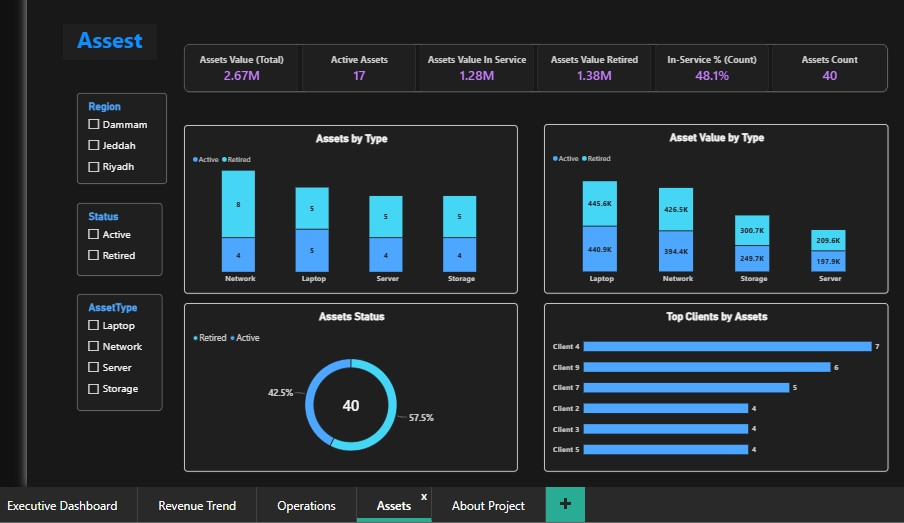

Layout of this report page (visuals, bound fields, positions):
{"tool":"powerbi","page":{"name":"Assets","canvas":[1920,1080],"ordinal":3},"visuals":[{"type":"cardVisual","fields":{"Data":["_Measures.Assets Value","_Measures.Active Assets","_Measures.Assets Value In Service","_Measures.Assets Value Retired","_Measures.In-Service % (Count)","_Measures.Assets Count"]},"box":[340,120,1526,104],"z":0},{"type":"columnChart","title":"Assets by Type","fields":{"Category":["FactAssets.AssetType"],"Series":["FactAssets.Status"],"Y":["_Measures.Assets Count"]},"box":[340.1,294,724.1,366.4],"z":1000},{"type":"columnChart","title":" Asset Value by Type","fields":{"Category":["FactAssets.AssetType"],"Series":["FactAssets.Status"],"Y":["_Measures.Assets Value (Total)"]},"box":[1120.9,293.4,746.5,367.8],"z":2000},{"type":"donutChart","title":"Assets Status","fields":{"Category":["FactAssets.Status"],"Y":["_Measures.Assets Count"]},"box":[340.1,680.2,724.1,366.4],"z":3000},{"type":"clusteredBarChart","title":"Top Clients by Assets","fields":{"Category":["DimClients.ClientName"],"Y":["_Measures.Assets Count"]},"box":[1120.9,680.9,746.5,365.6],"z":4000},{"type":"slicer","fields":{"Values":["DimClients.Region"]},"box":[107.5,225,195.2,197.3],"z":5000},{"type":"slicer","fields":{"Values":["FactAssets.Status"]},"box":[107.5,465,185,157.5],"z":6000},{"type":"textbox","box":[77.5,75,202.5,77.5],"z":6001},{"type":"slicer","fields":{"Values":["FactAssets.AssetType"]},"box":[107.5,662.5,185,252.5],"z":6002}]}

Visuals, with their boxes on the page's 1920x1080 design canvas (x1, y1, x2, y2). These are canvas units, not pixel positions in the 904x523 screenshot, which may show the page scaled, cropped or inside an application window:
cardVisual - _Measures.Assets Value x _Measures.Active Assets: (340, 120, 1866, 224)
"Assets by Type" columnChart: (340, 294, 1064, 660)
" Asset Value by Type" columnChart: (1121, 293, 1867, 661)
"Assets Status" donutChart: (340, 680, 1064, 1047)
"Top Clients by Assets" clusteredBarChart: (1121, 681, 1867, 1046)
slicer - DimClients.Region: (108, 225, 303, 422)
slicer - FactAssets.Status: (108, 465, 292, 622)
textbox: (78, 75, 280, 152)
slicer - FactAssets.AssetType: (108, 662, 292, 915)
